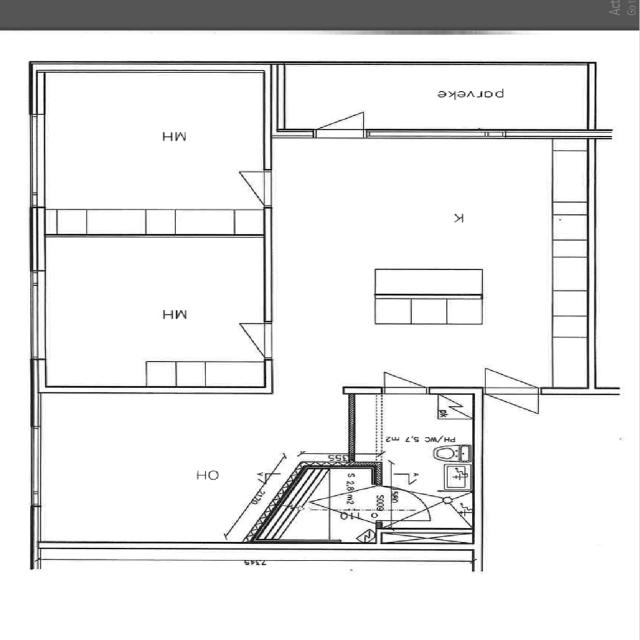door: (481, 373, 546, 418), (233, 163, 275, 209), (314, 108, 370, 139), (240, 318, 276, 360), (377, 369, 428, 396), (386, 487, 429, 519)
window: (22, 269, 54, 363), (22, 112, 52, 208), (238, 164, 277, 212), (240, 318, 276, 362)
zone: (274, 133, 595, 351), (38, 70, 266, 233), (36, 232, 271, 390), (358, 392, 477, 478), (378, 492, 470, 546), (322, 466, 383, 537), (385, 488, 454, 521)
